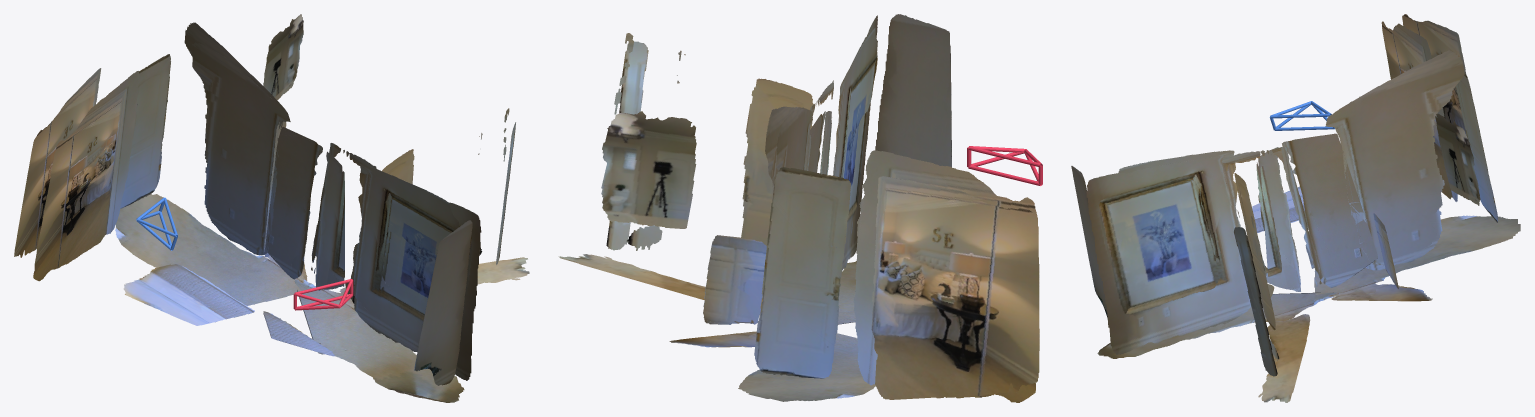
File: pred.glb
The picture shows the model from 3 angles, left to right: view 1: azimuth 30°, elevation 25°; view 2: azimuth 150°, elevation 25°; view 3: azimuth 270°, elevation 25°; orthographic projection. The views are drawn at different scales.
Parts seen in each view (by area): view 1: Node; view 2: Node; view 3: Node.
Boxes of the visible parts, x1,y1,x2,y2 form: Node: [14, 14, 529, 402]; Node: [558, 14, 1042, 402]; Node: [1071, 14, 1520, 402].
Bounding box in the file's own units: 6.33 × 3.65 × 5.62.
Materials: 27 (25 with a texture image).
